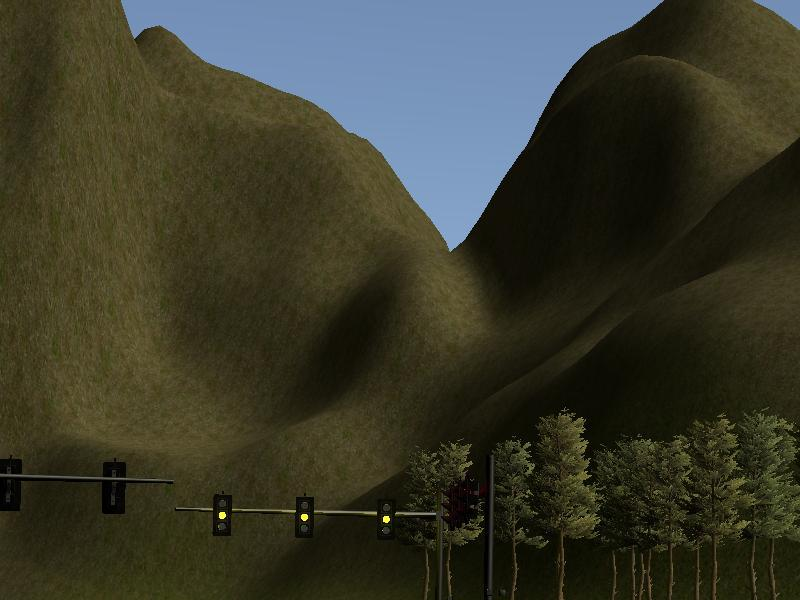Yellow: (293, 496, 314, 535), (376, 499, 395, 539), (213, 496, 231, 536)
